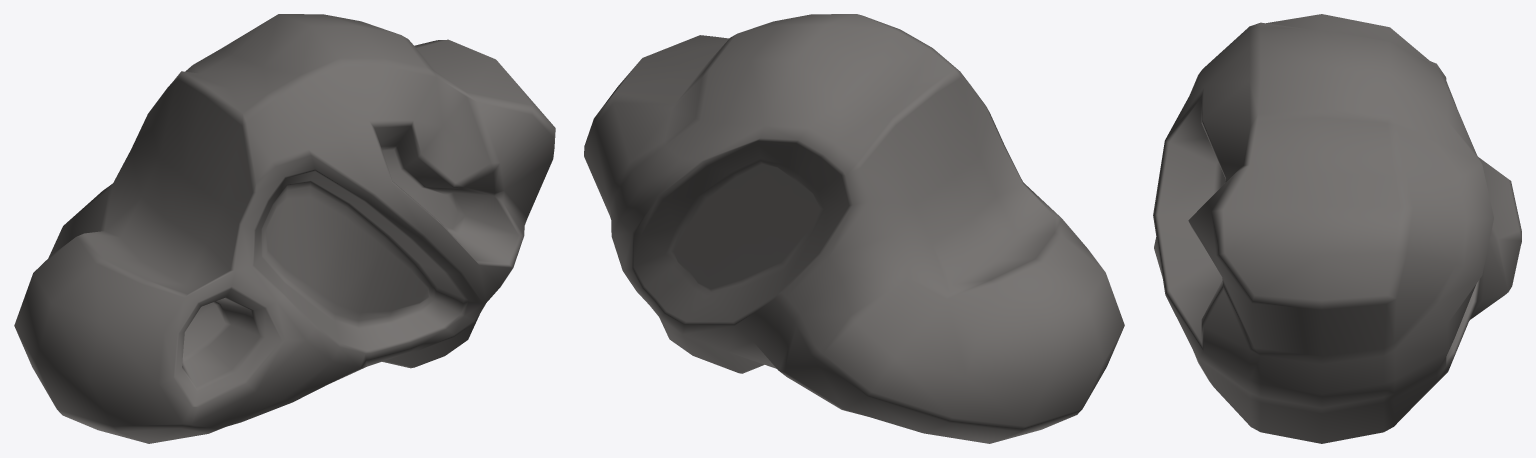
The model's file is _Meteorite_03.fbx.
3 renders of one model, left to right at view 1: azimuth 30°, elevation 25°; view 2: azimuth 150°, elevation 25°; view 3: azimuth 270°, elevation 25°, orthographic. The views are drawn at different scales.
Parts seen in each view (by area): view 1: Meteorite_03; view 2: Meteorite_03; view 3: Meteorite_03.
Part boxes in pixels (x1=…): Meteorite_03: x1=14, y1=14, x2=555, y2=443; Meteorite_03: x1=584, y1=14, x2=1124, y2=443; Meteorite_03: x1=1153, y1=14, x2=1521, y2=443.
Size of the model in its own units: 242 by 163 by 148.
Materials: 1 (1 with a texture image).
